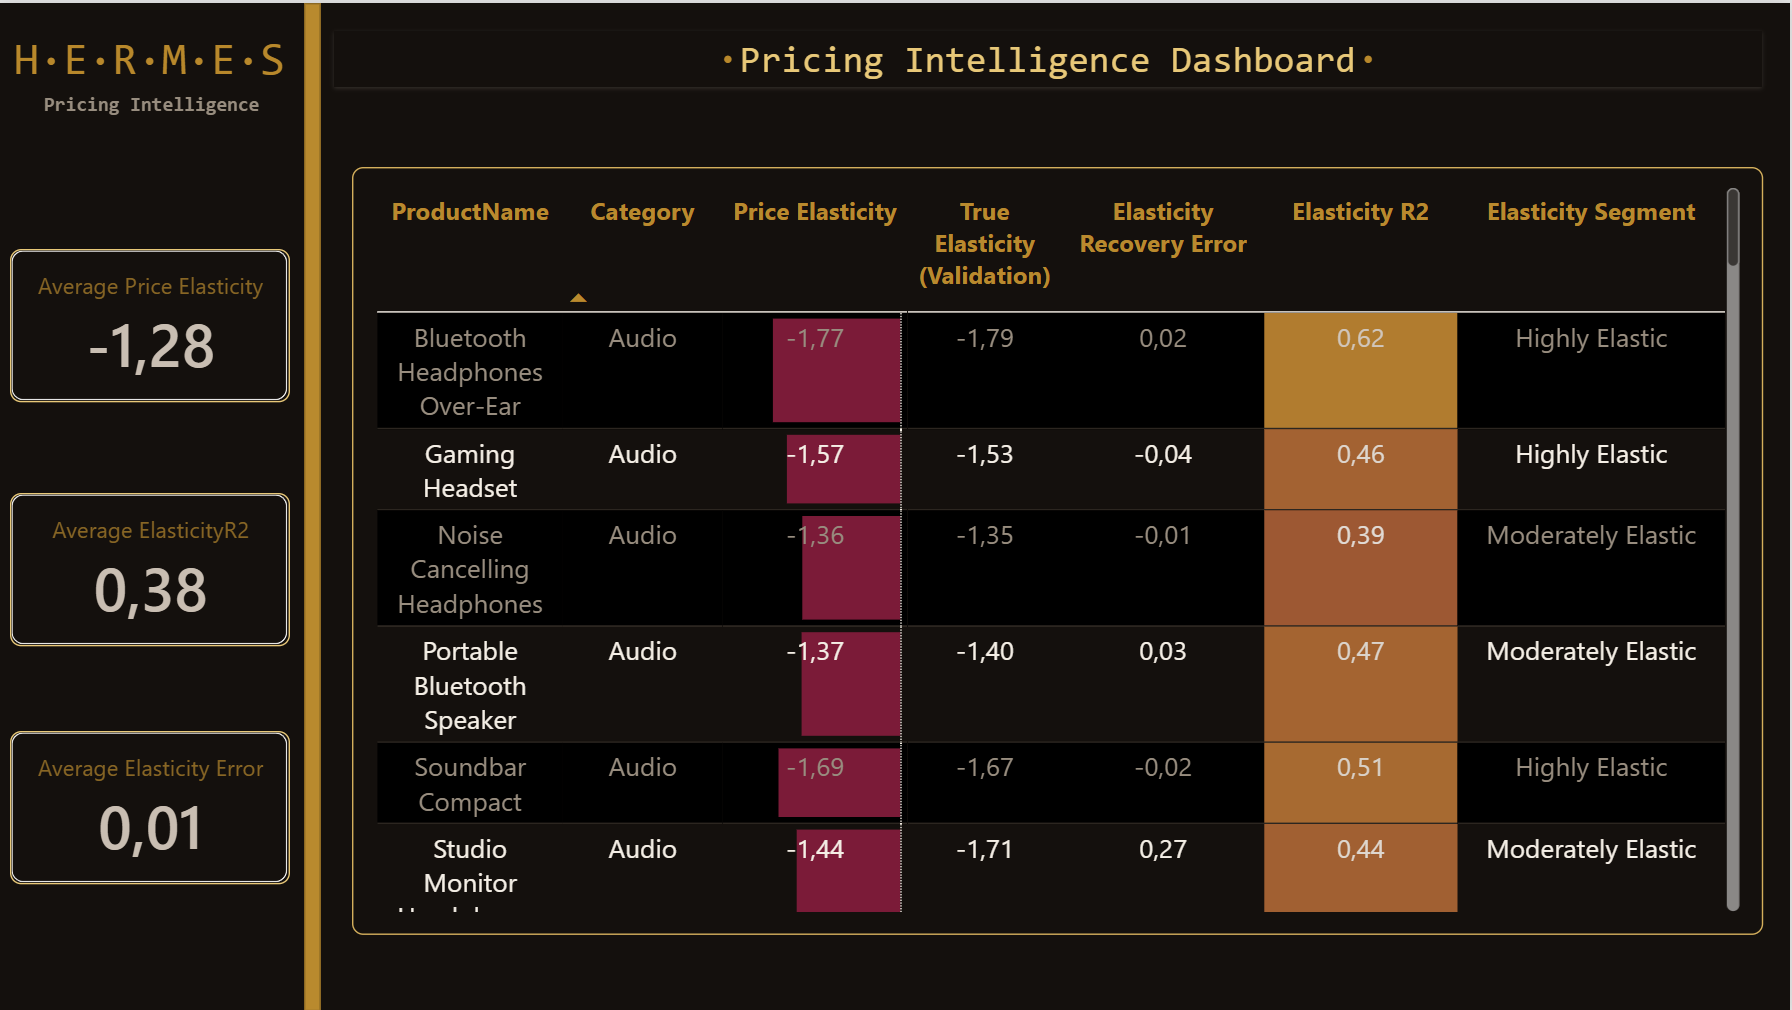

Layout of this report page (visuals, bound fields, positions):
{"tool":"powerbi","page":{"name":"QA Model Validation","canvas":[1280,720],"ordinal":1},"visuals":[{"type":"tableEx","fields":{"Values":["dim_product.ProductName","dim_product.Category","_Measures.Price Elasticity","_Measures.True Elasticity (Validation)","_Measures.Elasticity Recovery Error","_Measures.Elasticity R2","_Measures.Elasticity Segment"]},"box":[252.4,117.2,1008.1,548.4],"z":0},{"type":"shape","box":[218.9,0,12,720.1],"z":1000},{"type":"textbox","box":[12,21.5,207,40.7],"z":2000},{"type":"textbox","box":[20.3,62.2,179.4,21.5],"z":3000},{"type":"textbox","box":[240,20,1020,40],"z":4000},{"type":"cardVisual","fields":{"Data":["_Measures.Test AvgElasticity"]},"box":[9,175.8,199.8,109.7],"z":5000},{"type":"cardVisual","fields":{"Data":["_Measures.Average ElasticityR2"]},"box":[9,350,199.8,109.7],"z":6000},{"type":"cardVisual","fields":{"Data":["_Measures.Average Elasticity Error"]},"box":[9,519.8,199.8,109.7],"z":7000}]}

Visuals, with their boxes in screenshot pixels (x1, y1, x2, y2), scaled from the page's 1280x720 canvas onto the 1792x1010 screenshot:
tableEx - dim_product.ProductName x dim_product.Category: 353, 164, 1765, 934
shape: 306, 0, 323, 1009
textbox: 17, 30, 307, 87
textbox: 28, 87, 280, 117
textbox: 336, 28, 1764, 84
cardVisual - _Measures.Test AvgElasticity: 13, 247, 292, 400
cardVisual - _Measures.Average ElasticityR2: 13, 491, 292, 645
cardVisual - _Measures.Average Elasticity Error: 13, 729, 292, 883
